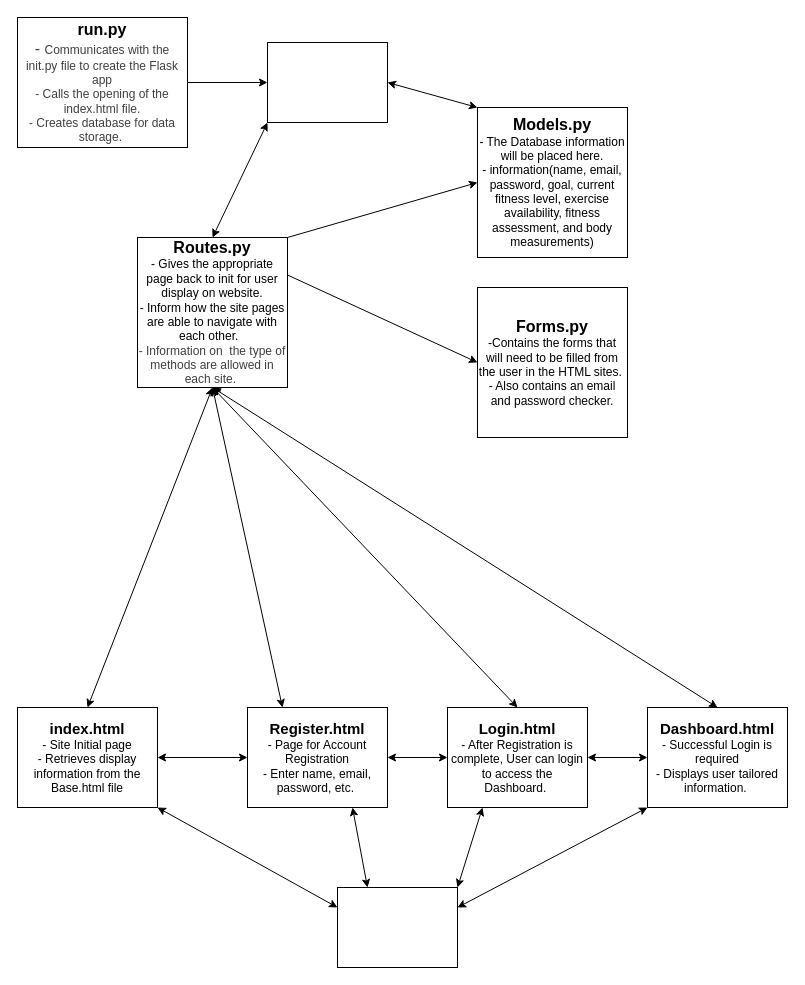
Some shapes in this 805 by 985 pixel diagram are drawn without their labels. Each missing label, with the centre of its shape:
Base.html used to have all the needed HTML information for display: pixel 397 927
Init.py Starts the flask app: pixel 327 82
